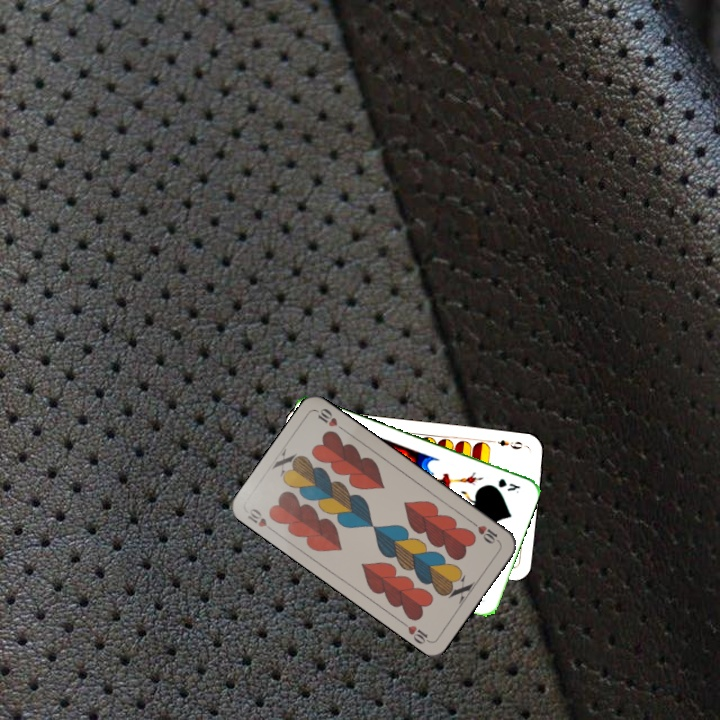E9: (488, 436, 529, 452)
GK: (494, 474, 523, 496)
H10: (243, 504, 278, 535), (467, 517, 502, 547)
